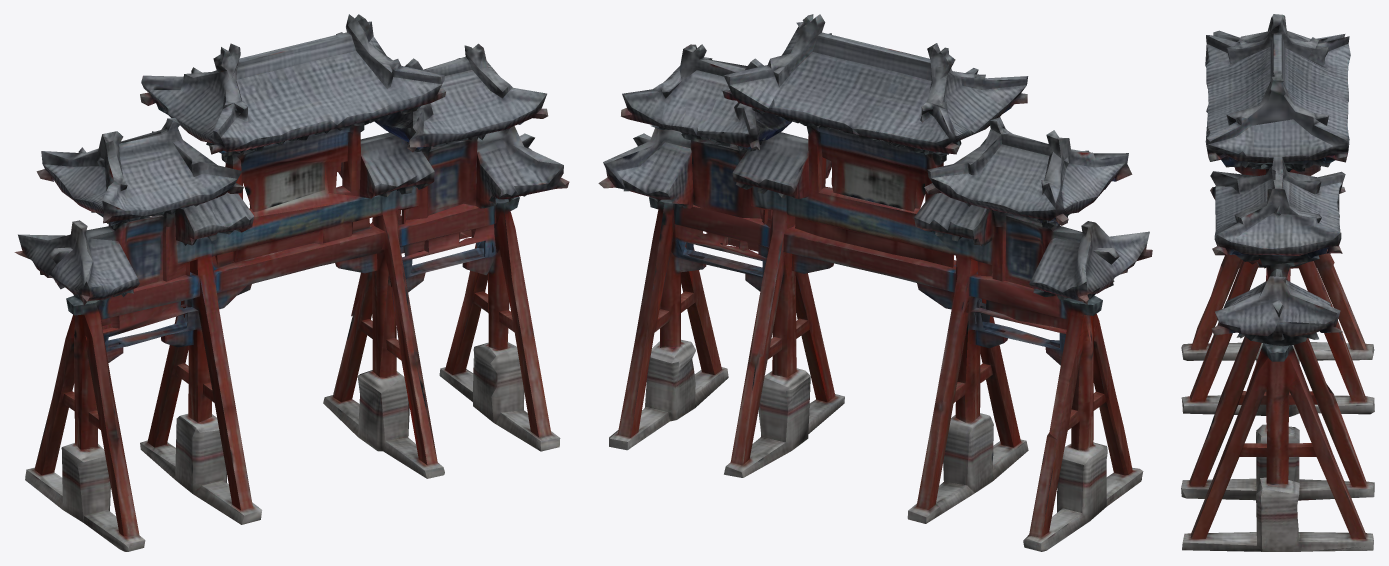
File: lm_paifang.glb
3 renders of one model, left to right at view 1: azimuth 30°, elevation 25°; view 2: azimuth 150°, elevation 25°; view 3: azimuth 270°, elevation 25°, orthographic. The views are drawn at different scales.
Parts seen in each view (by area): view 1: world; view 2: world; view 3: world.
Boxes of the visible parts, x1=… form: world: x1=14, y1=14, x2=569, y2=551; world: x1=598, y1=14, x2=1152, y2=551; world: x1=1181, y1=14, x2=1374, y2=551.
Bounding box in the file's own units: 18.81 × 16 × 6.88.
1 material, 1 textured.
